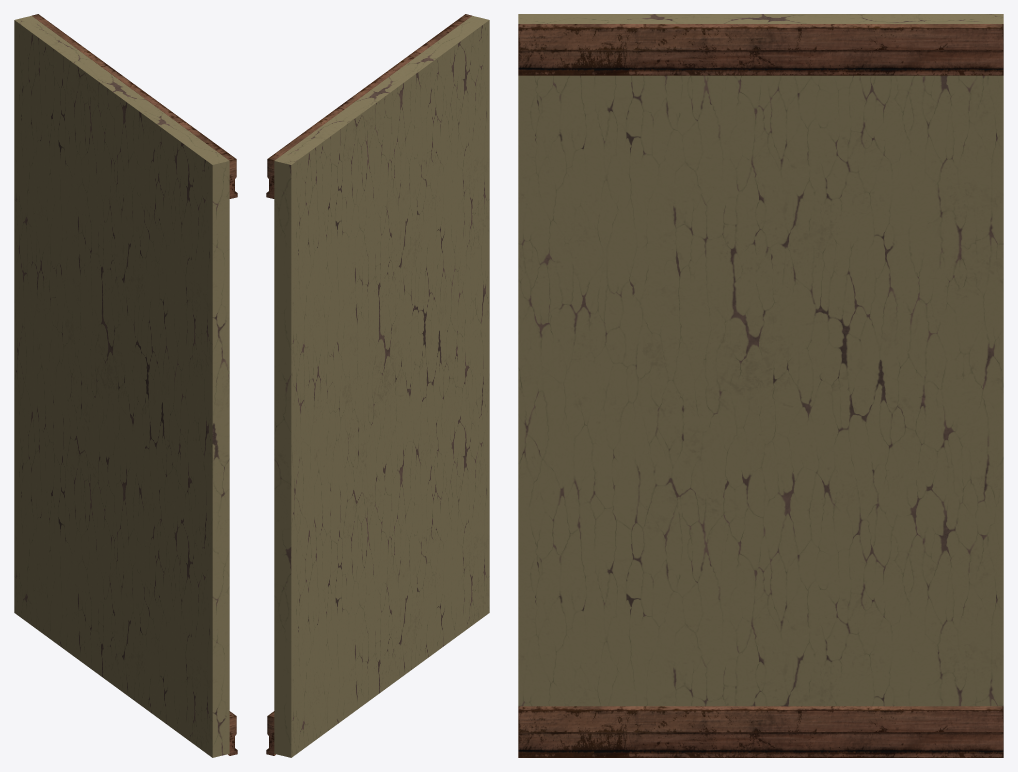
File: Wall_2m_C.fbx
3 renders of one model, left to right at view 1: azimuth 30°, elevation 25°; view 2: azimuth 150°, elevation 25°; view 3: azimuth 270°, elevation 25°, orthographic. The views are drawn at different scales.
Visible parts, largest first — view 1: Wall_2m_A.002; view 2: Wall_2m_A.002; view 3: Wall_2m_A.002.
Part boxes in pixels (x1,y1,x2,y2): Wall_2m_A.002: (14,14,237,757); Wall_2m_A.002: (266,14,489,757); Wall_2m_A.002: (518,14,1003,757).
Size of the model in its own units: 0.1458 by 3.31 by 2.
